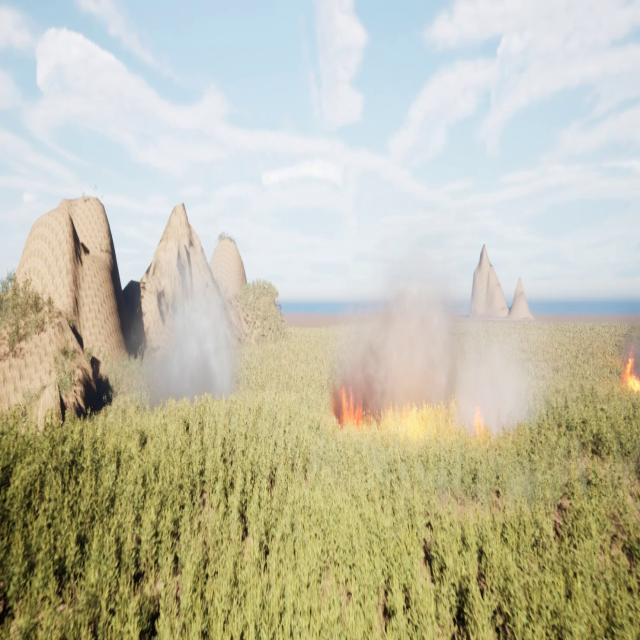fire: (334, 382, 369, 428), (618, 343, 640, 395)
smoke: (330, 249, 537, 436), (130, 272, 238, 402)
